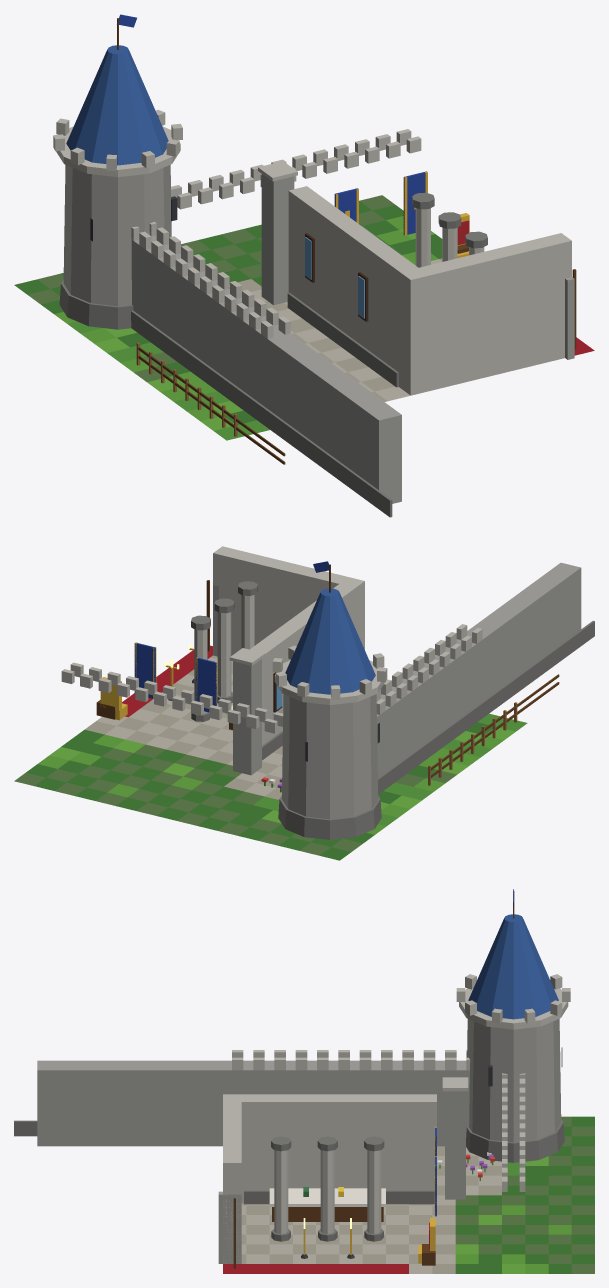
The model's file is chunk_5_3.glb.
The picture shows the model from 3 angles, top to bottom: view 1: azimuth 30°, elevation 25°; view 2: azimuth 150°, elevation 25°; view 3: azimuth 270°, elevation 25°; orthographic projection. The views are drawn at different scales.
Parts seen in each view (by area): view 1: chunk_5_3; view 2: chunk_5_3; view 3: chunk_5_3.
Boxes of the visible parts, x1=… form: chunk_5_3: x1=14, y1=14, x2=594, y2=517; chunk_5_3: x1=14, y1=546, x2=594, y2=860; chunk_5_3: x1=14, y1=889, x2=594, y2=1273.
Bounding box in the file's own units: 16 × 12.13 × 25.
